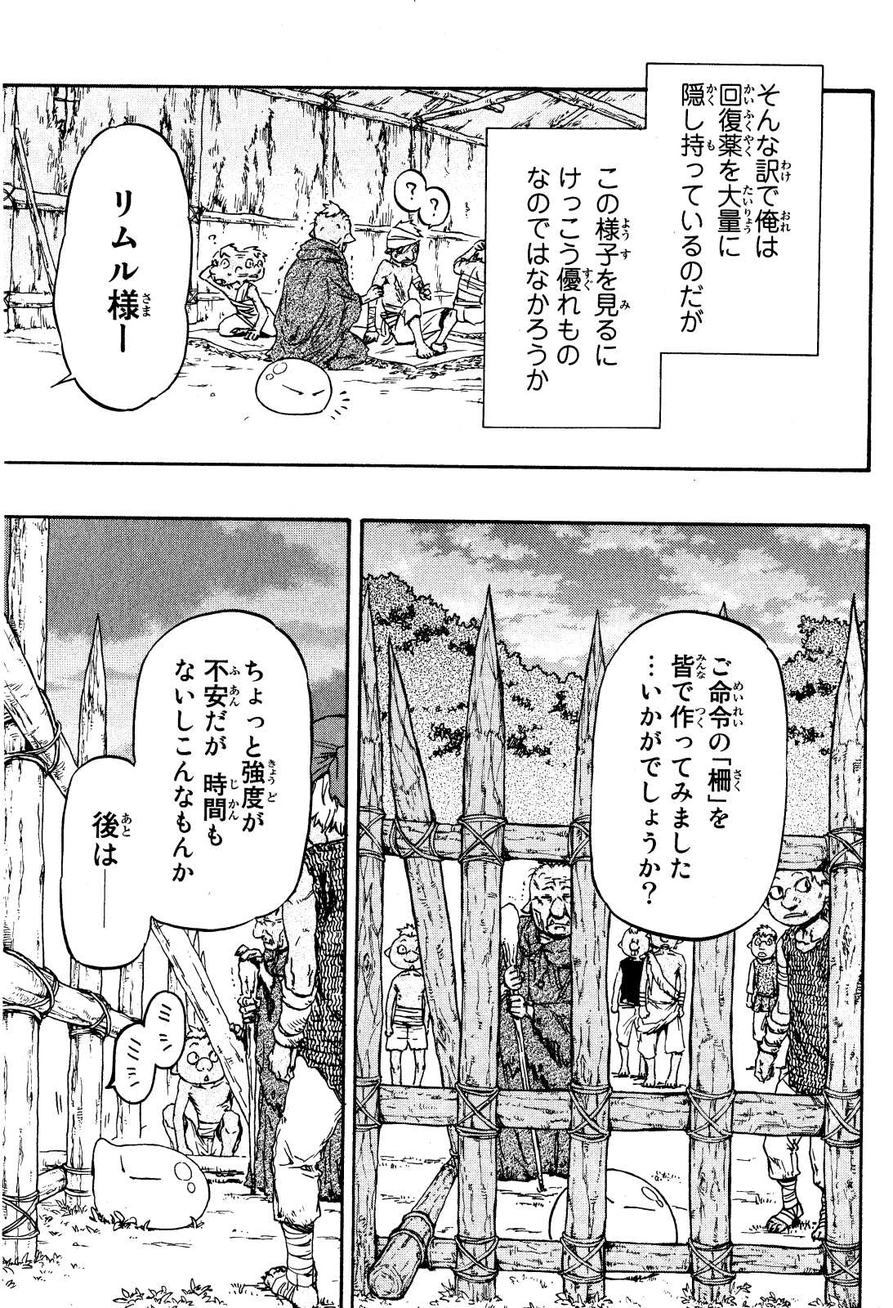bubbles: (474, 57, 827, 433), (55, 602, 318, 977), (584, 598, 792, 947), (46, 123, 194, 412), (390, 164, 459, 235)
